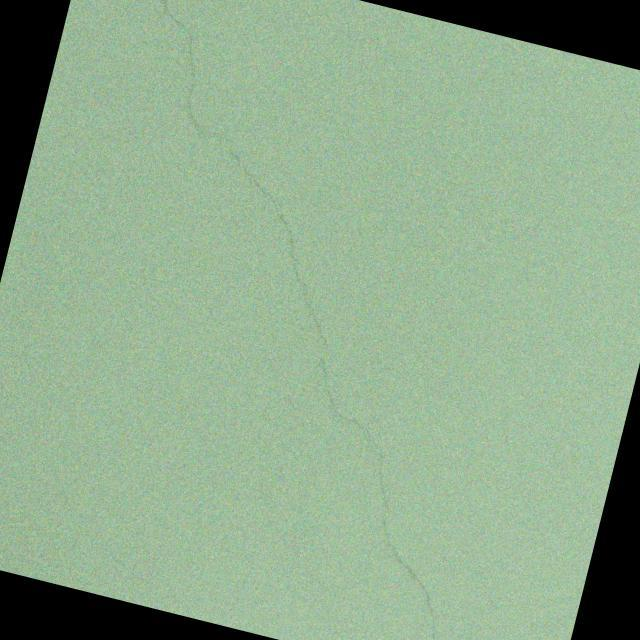crack: (104, 131, 551, 640), (89, 0, 268, 153)
